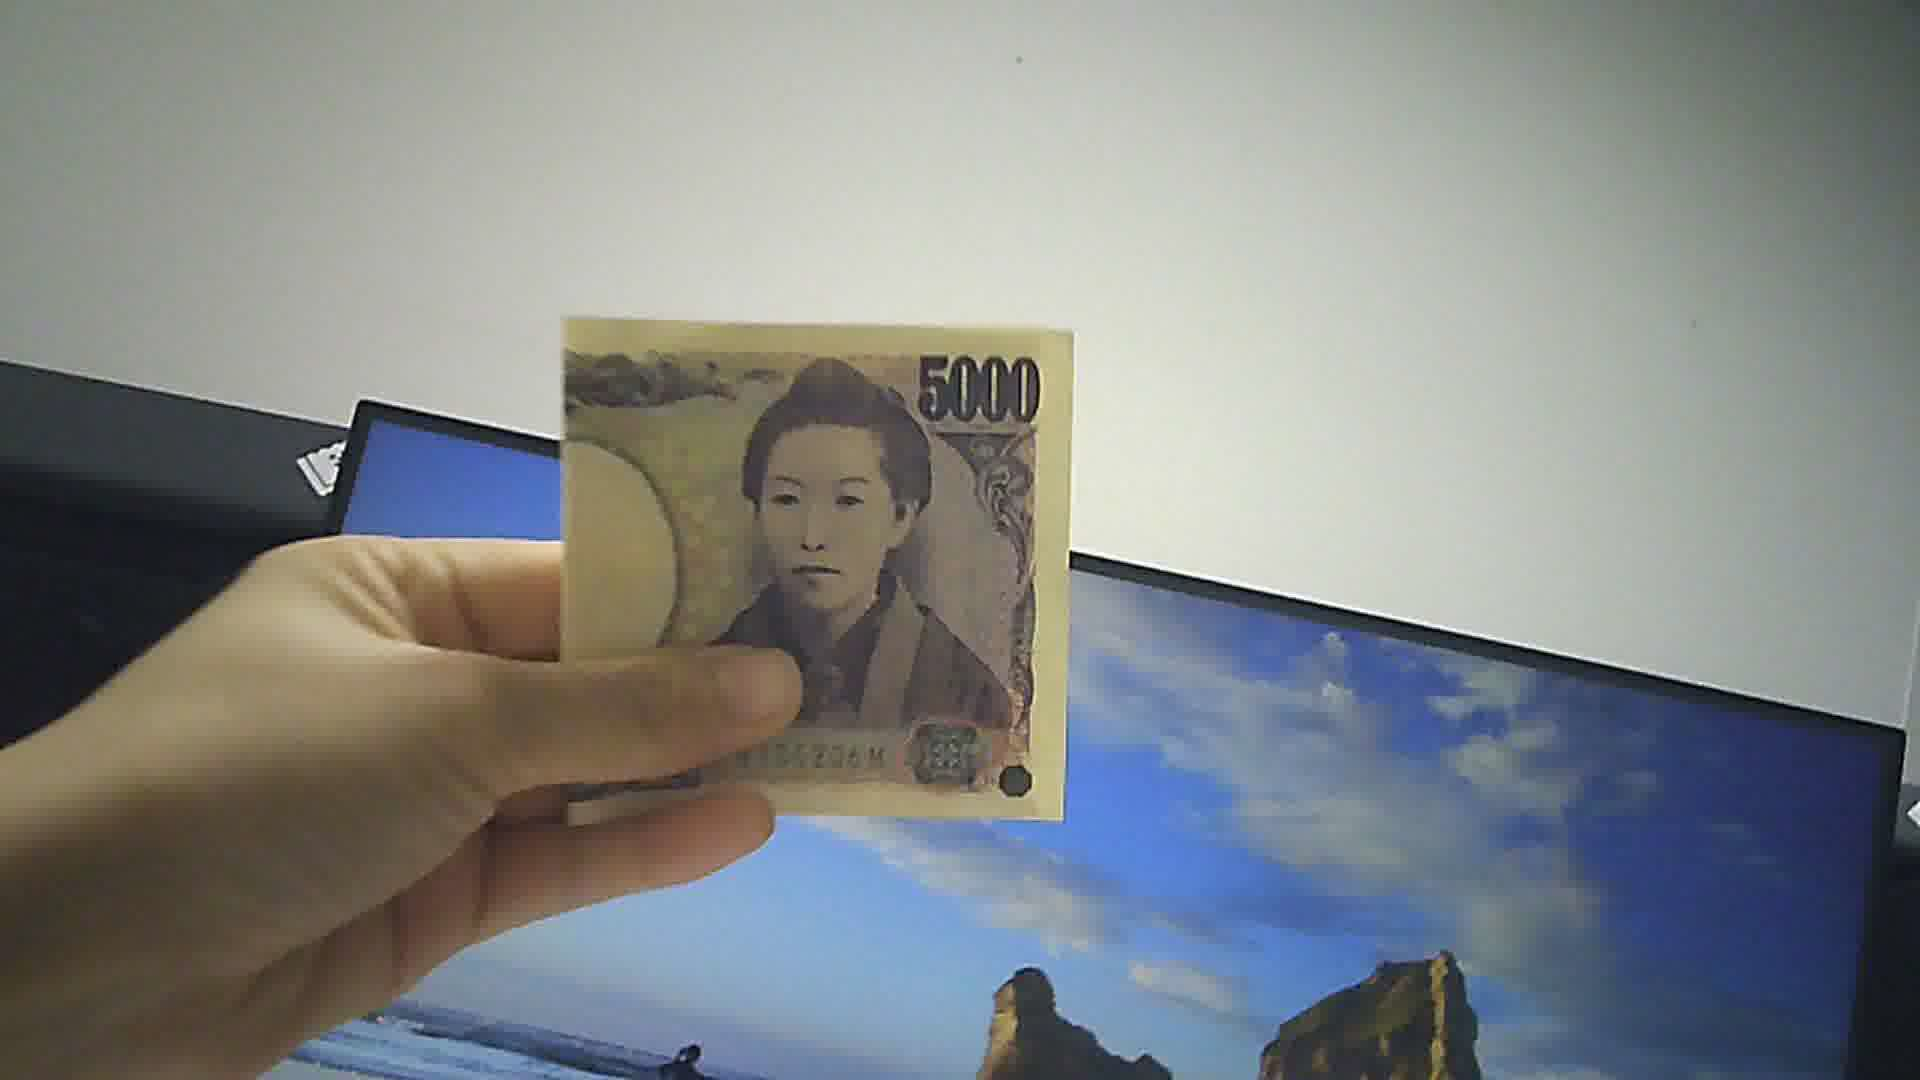5,000 Yen: (510, 301, 1104, 851)
